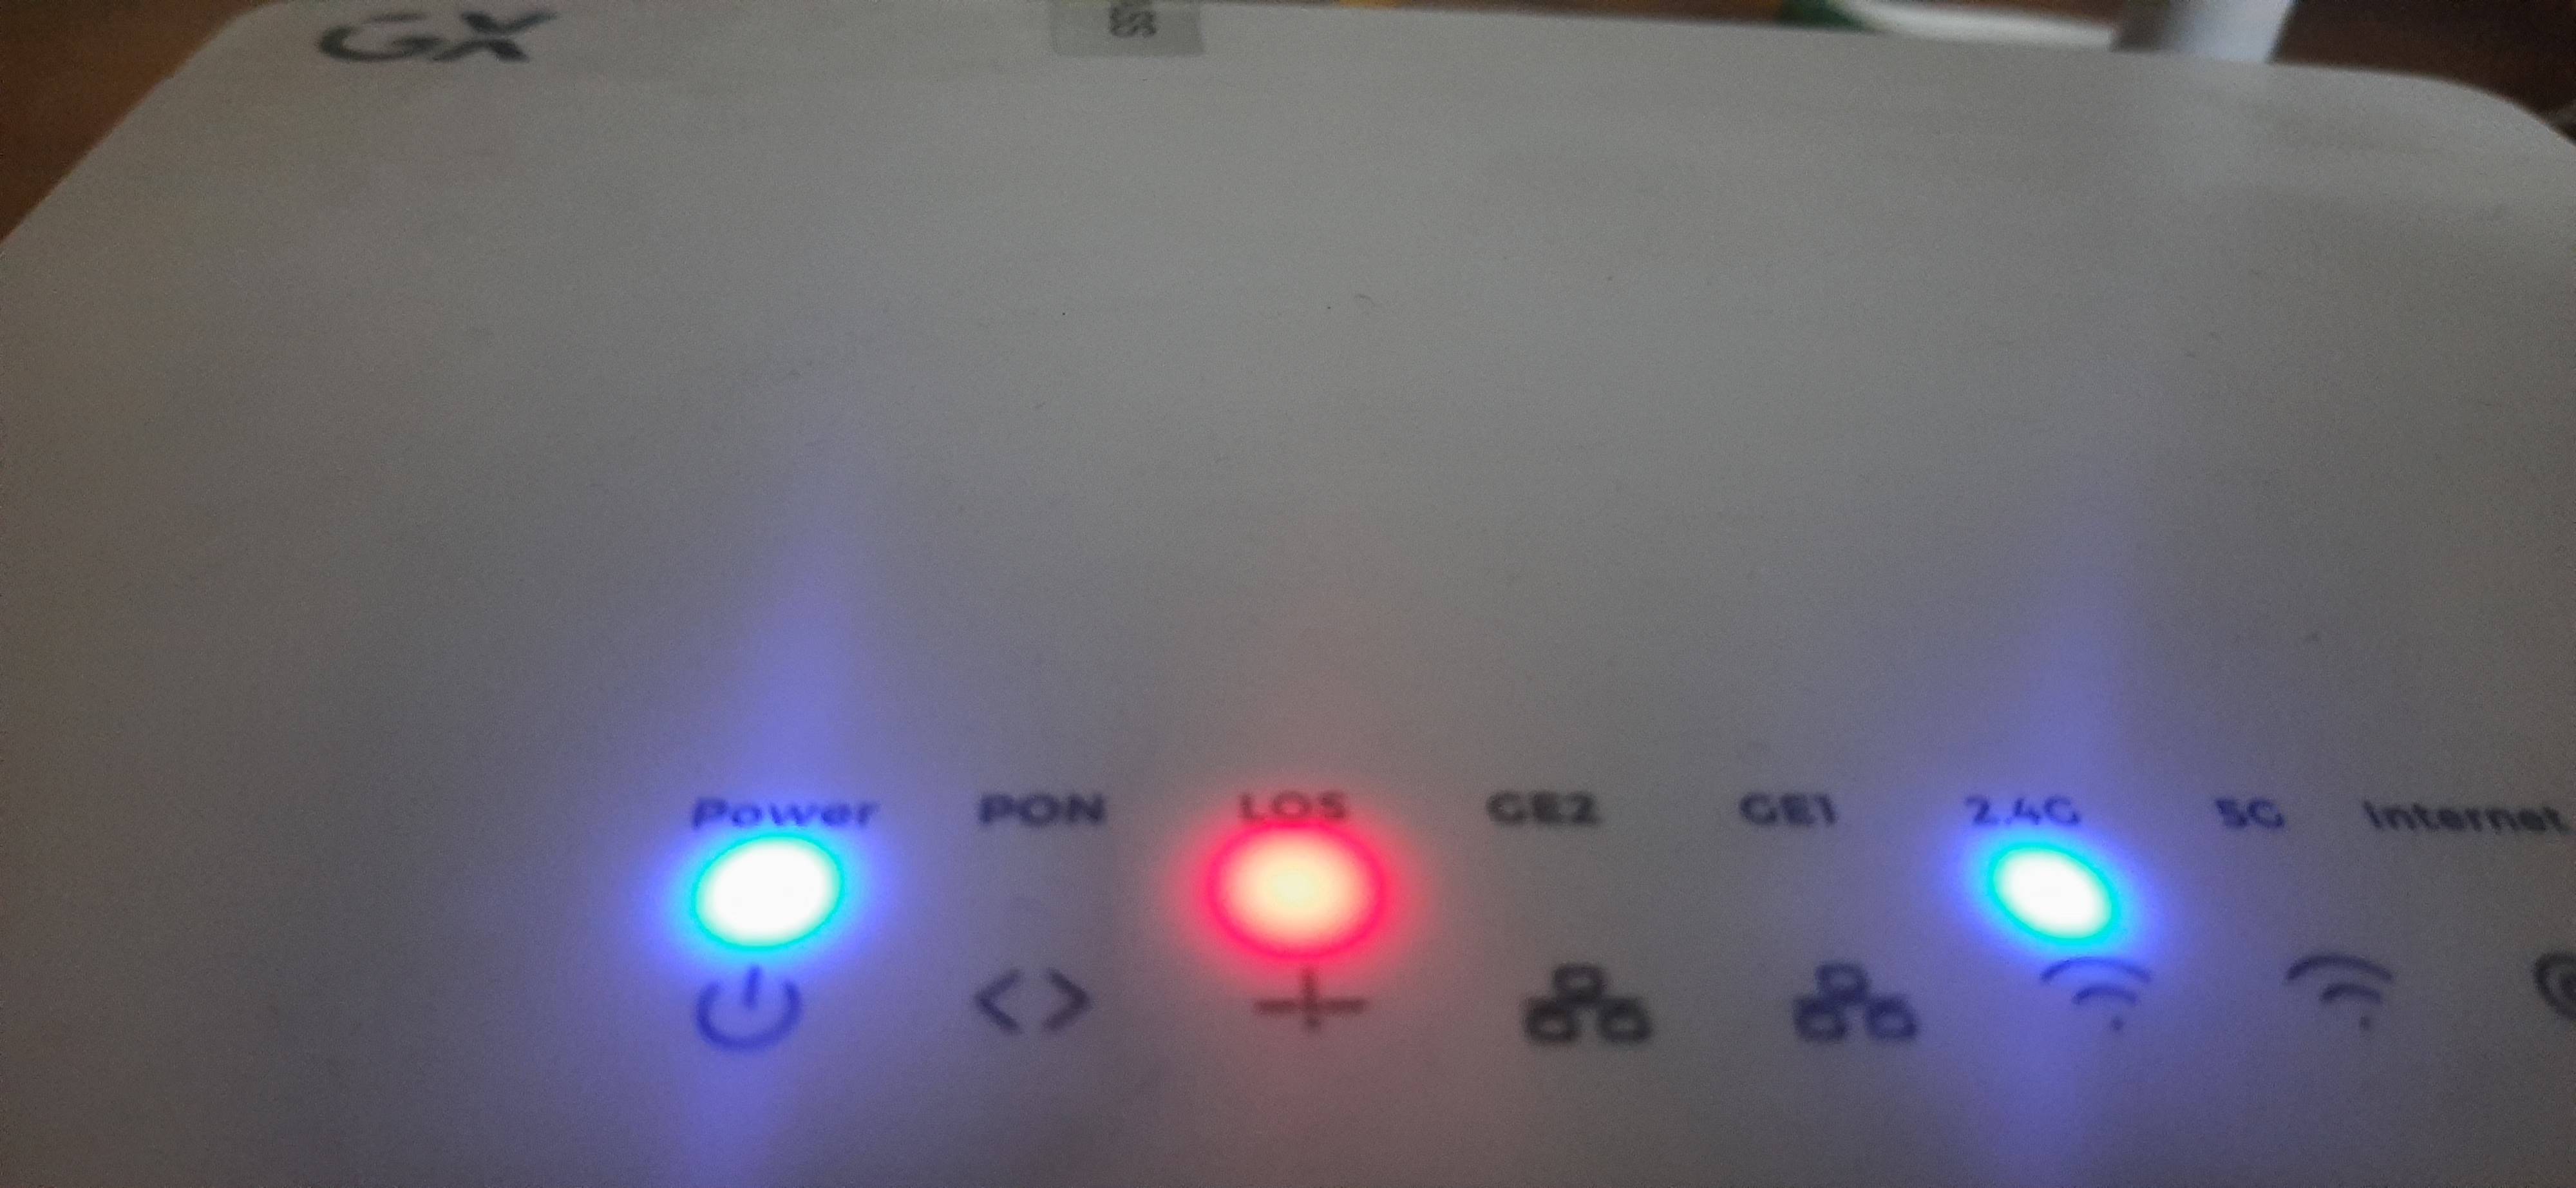LOSConnectionIssue: (1157, 764, 1465, 1112)
